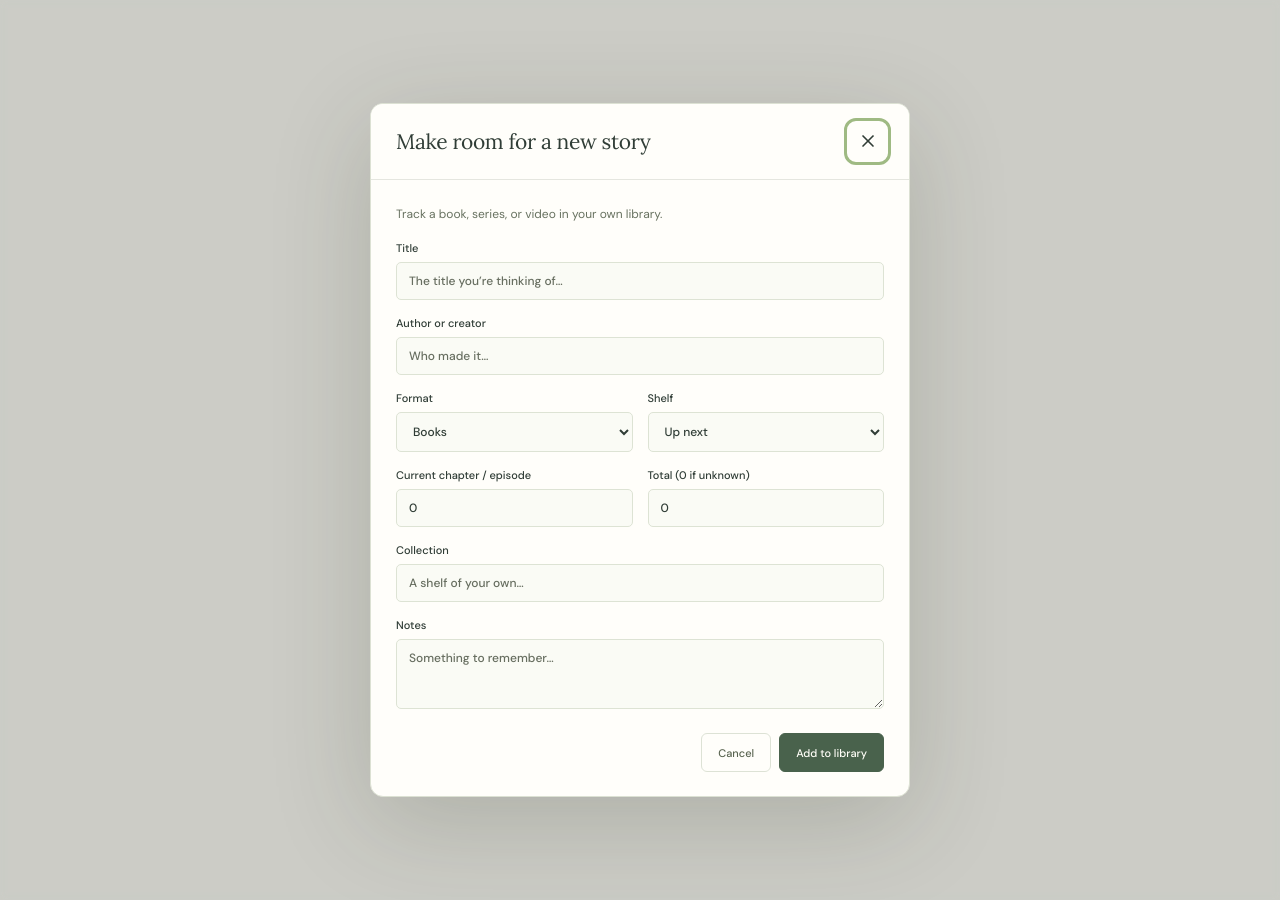
adding a title › keeps entered data visible when saving fails
Type "Keep this title" into the field labelled "Title".
click(640, 281); type("Keep this title")  # box [396,262,884,300]
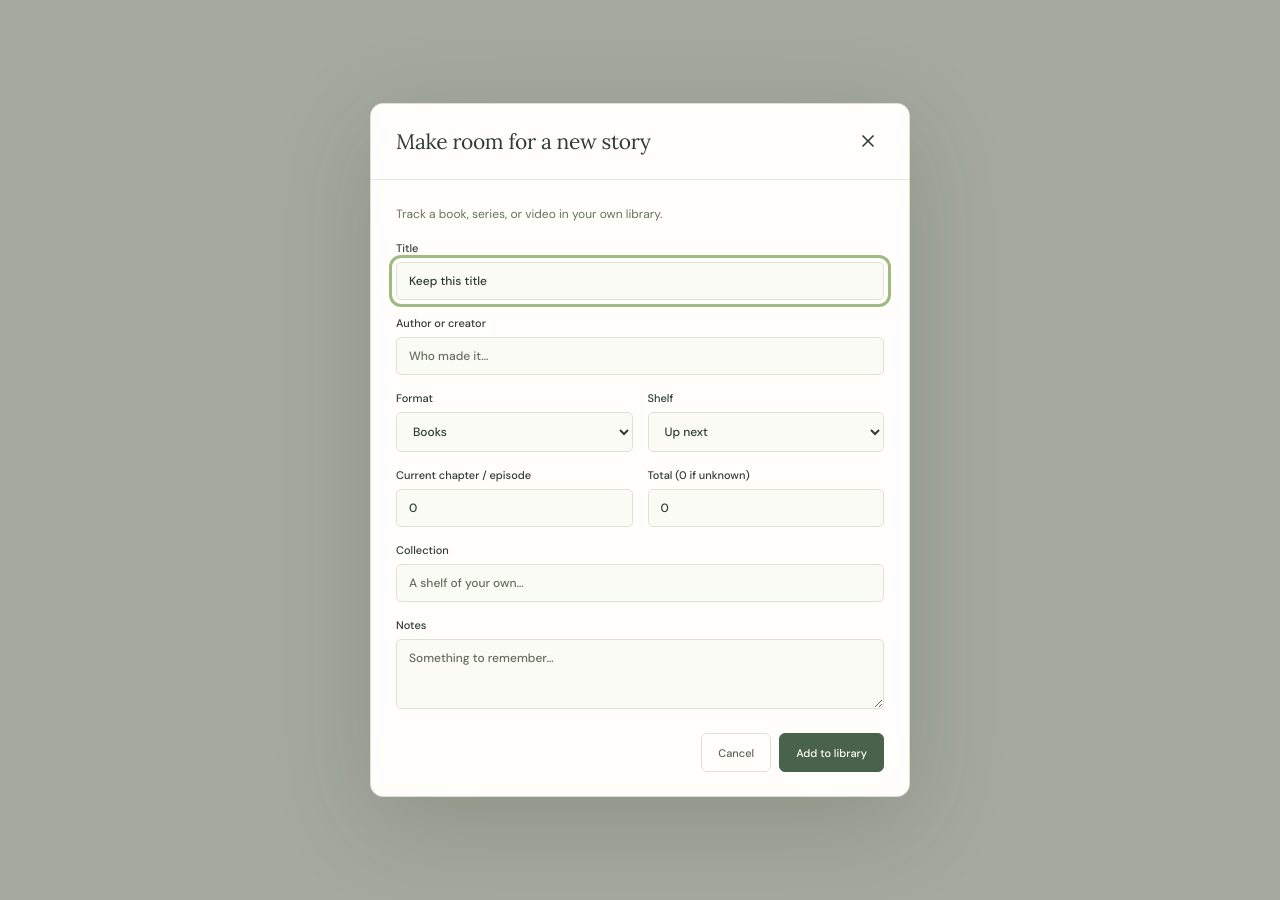
Click the button "Add to library".
click(832, 753)  # box [779,733,884,772]
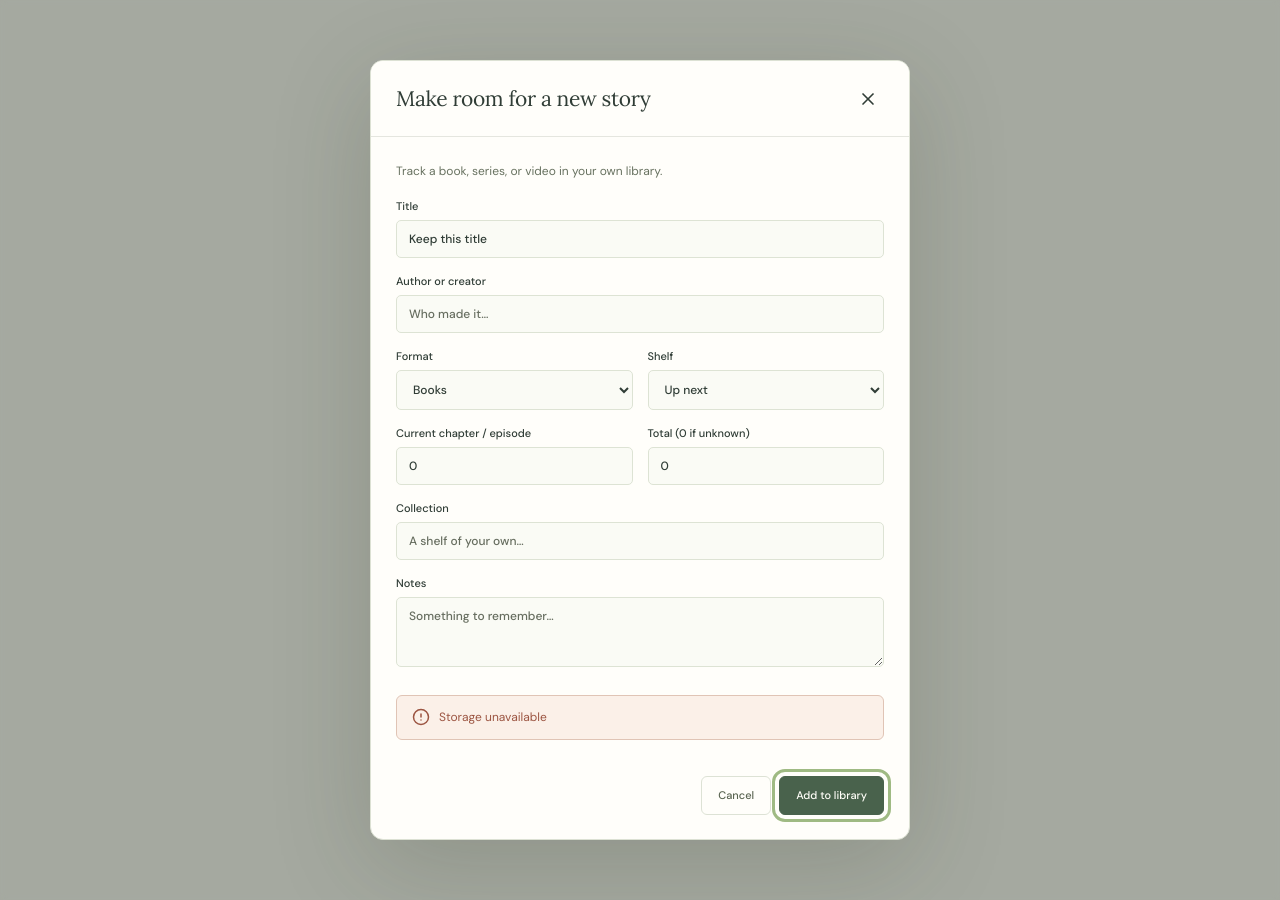
Expected: the message reads "Storage unavailable", [439,709,547,725]
